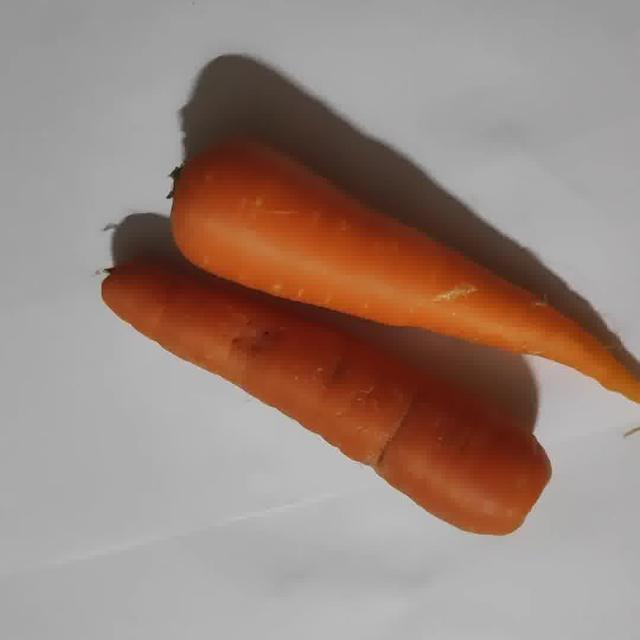Carrot: (102, 261, 549, 535), (171, 147, 639, 401)
